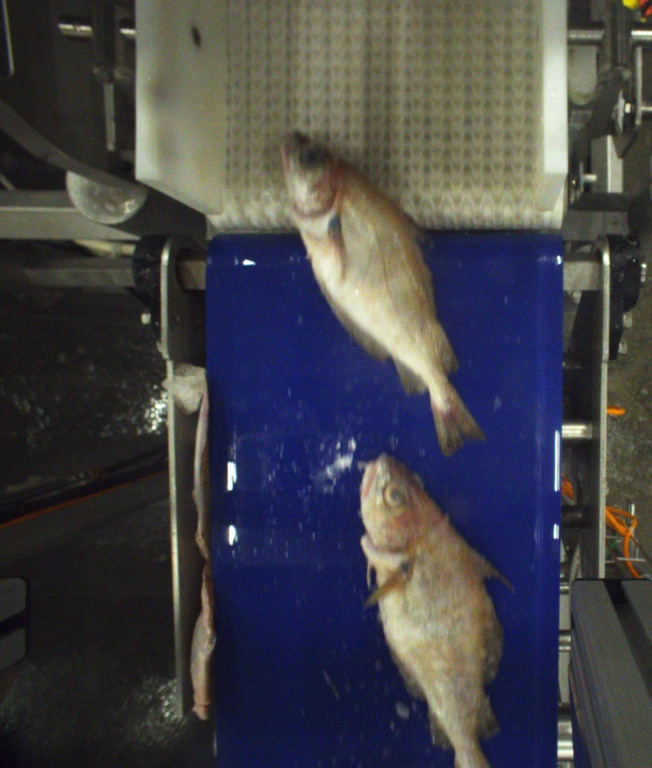BIB: (277, 134, 482, 448)
